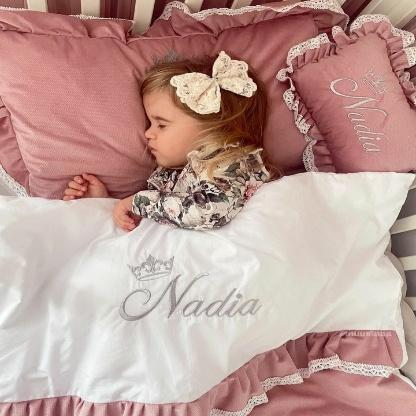baby: (63, 52, 271, 234)
